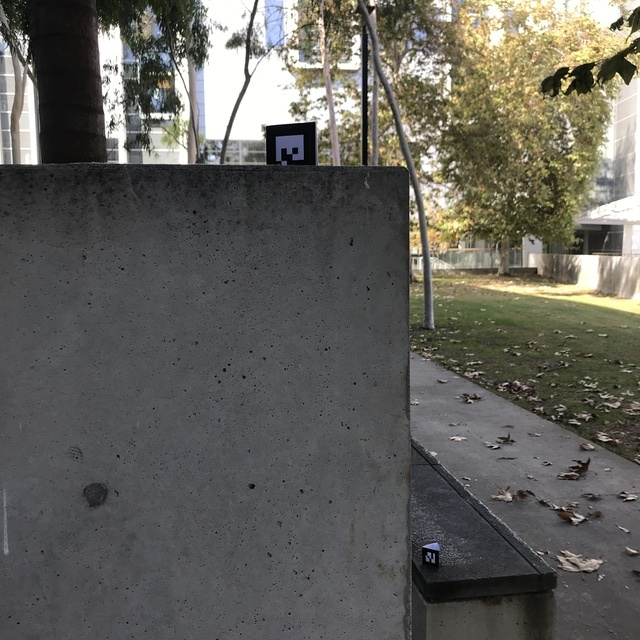ARTag: (265, 121, 318, 172)
